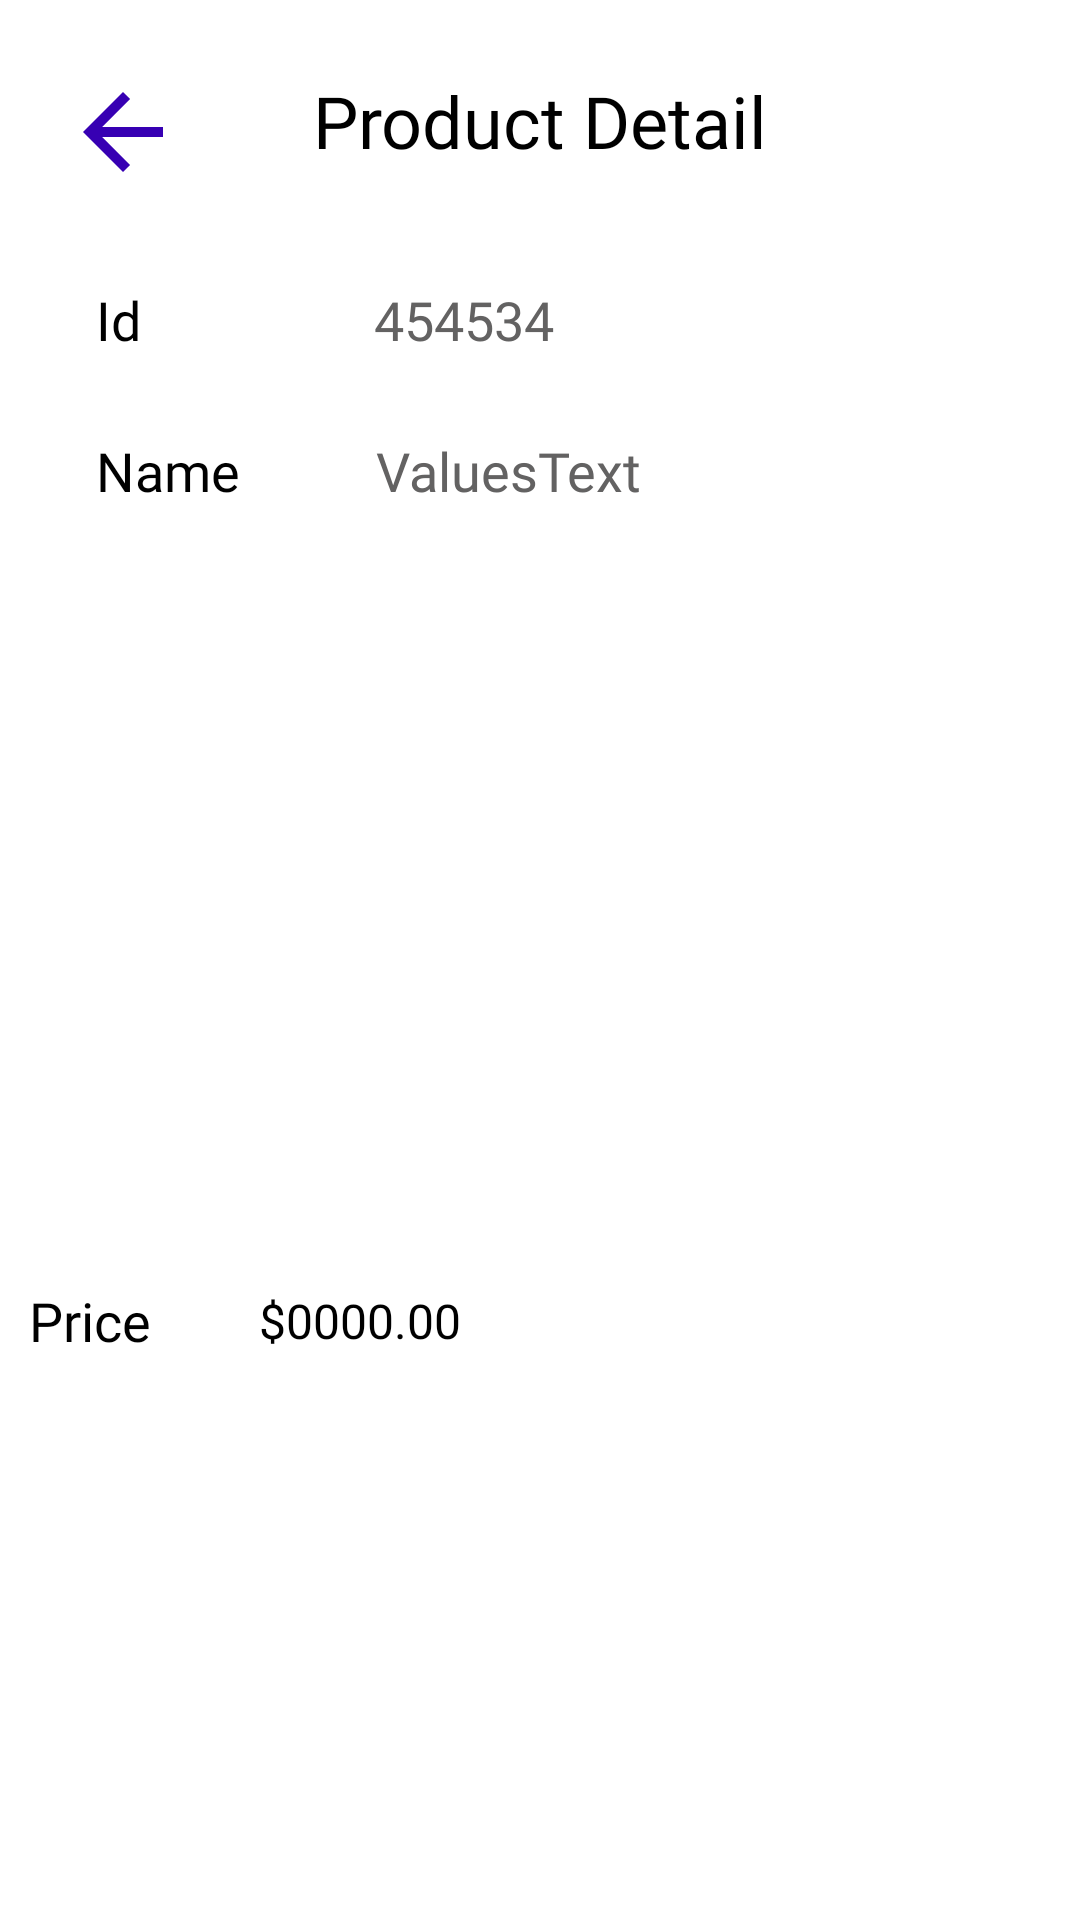

Locate icon controls on the screen. Image size 1080px x 1920px, boxes as (x1, y1, x2, y2).
arrow back: (83, 92, 163, 172)
